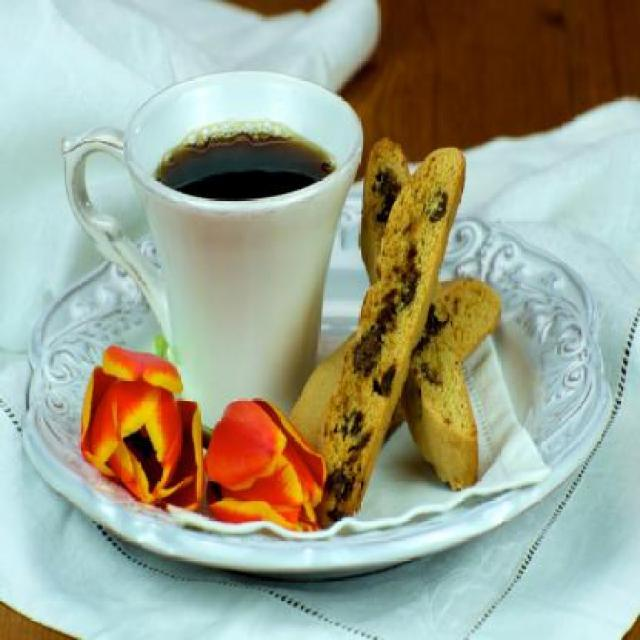Cookie: (318, 147, 467, 530), (355, 134, 479, 492), (283, 273, 500, 461)
